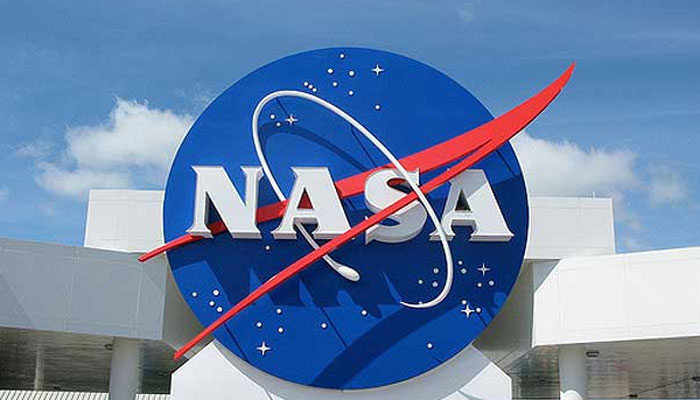NASA: (136, 42, 588, 391)
